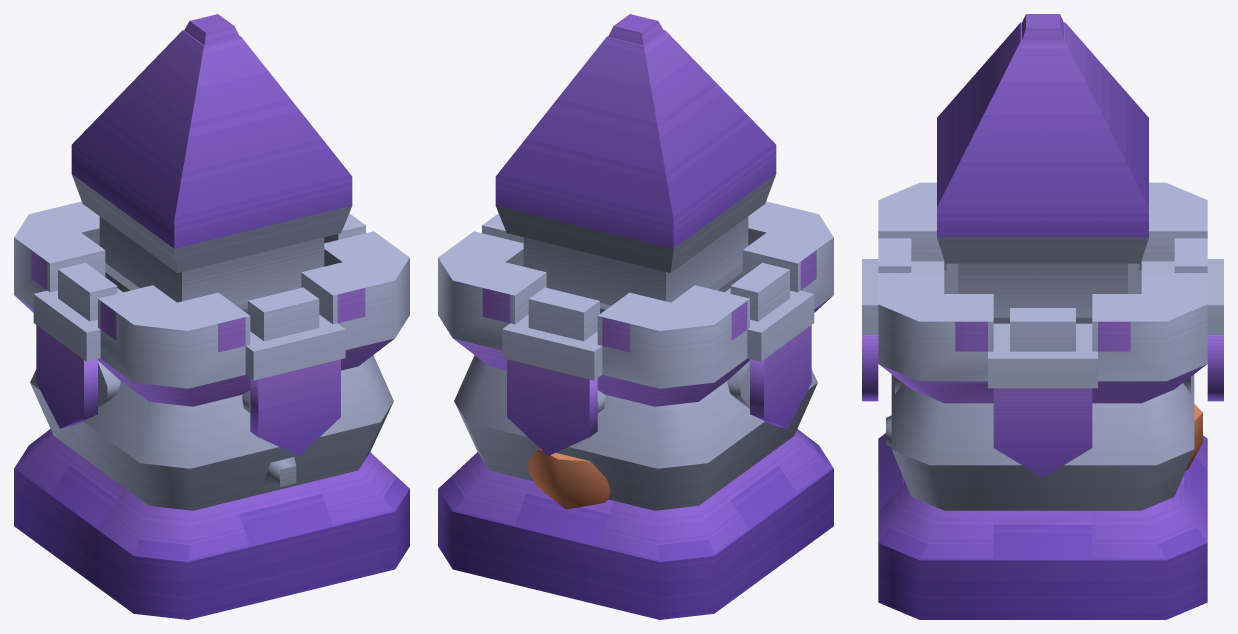
The model's file is glitch.glb.
The picture shows the model from 3 angles, left to right: view 1: azimuth 30°, elevation 25°; view 2: azimuth 150°, elevation 25°; view 3: azimuth 270°, elevation 25°; orthographic projection. The views are drawn at different scales.
Visible parts, largest first — view 1: tower-square-build-d, tower-square-build-e, tower-square-build-a, tower-square-build-c, tower-square-bottom-b, tower-square-build-f, tower-square-build-b, arrow; view 2: tower-square-build-d, tower-square-build-e, tower-square-build-a, tower-square-build-c, tower-square-bottom-b, catapult, tower-square-build-f, tower-square-build-b; view 3: tower-square-build-d, tower-square-build-e, tower-square-build-a, tower-square-build-c, tower-square-bottom-b, tower-square-build-b, tower-square-build-f.
Part boxes in pixels (x1,y1,x2,y2): tower-square-build-d: [14, 14, 409, 619]; tower-square-build-e: [15, 30, 393, 560]; tower-square-build-a: [30, 213, 393, 498]; tower-square-build-c: [14, 201, 409, 413]; tower-square-bottom-b: [27, 429, 396, 545]; tower-square-build-f: [49, 361, 374, 517]; tower-square-build-b: [34, 290, 345, 380]; arrow: [262, 457, 296, 487]; tower-square-build-d: [438, 14, 833, 619]; tower-square-build-e: [454, 30, 832, 560]; tower-square-build-a: [454, 213, 817, 498]; tower-square-build-c: [438, 201, 833, 413]; tower-square-bottom-b: [451, 429, 820, 545]; catapult: [528, 448, 610, 509]; tower-square-build-f: [473, 361, 798, 517]; tower-square-build-b: [502, 290, 813, 380]; tower-square-build-d: [878, 14, 1207, 619]; tower-square-build-e: [879, 22, 1206, 558]; tower-square-build-a: [862, 238, 1223, 497]; tower-square-build-c: [878, 182, 1207, 393]; tower-square-bottom-b: [889, 482, 1196, 543]; tower-square-build-b: [862, 259, 1223, 358]; tower-square-build-f: [902, 270, 1183, 524].
Size of the model in its own units: 1.1 by 1.78 by 1.1.
1 material, 1 textured.
